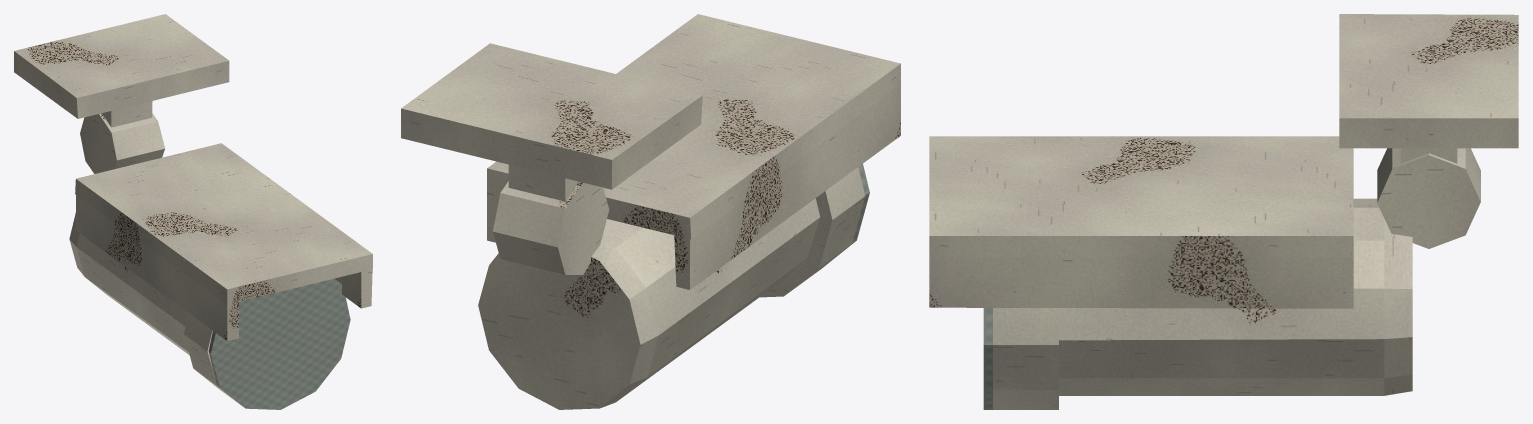
The model's file is camera1_v2.glb.
3 renders of one model, left to right at view 1: azimuth 30°, elevation 25°; view 2: azimuth 150°, elevation 25°; view 3: azimuth 270°, elevation 25°, orthographic. The views are drawn at different scales.
Visible parts, largest first — view 1: Variant_camera1_2; view 2: Variant_camera1_2; view 3: Variant_camera1_2.
Part boxes in pixels (x1,y1,x2,y2): Variant_camera1_2: (14,14,372,409); Variant_camera1_2: (401,14,900,409); Variant_camera1_2: (929,14,1518,409).
Bounding box in the file's own units: 0.1049 × 0.156 × 0.25.
2 materials, 2 textured.
